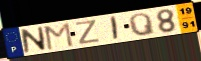8: (155, 8, 178, 34)
I: (111, 15, 120, 42)
M: (44, 21, 75, 51)
N: (20, 26, 48, 54)
Q: (128, 12, 157, 37)
Z: (74, 19, 102, 46)
